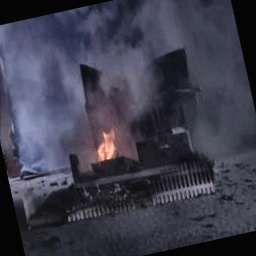fire: (84, 118, 138, 177)
smoke: (0, 0, 241, 141)
